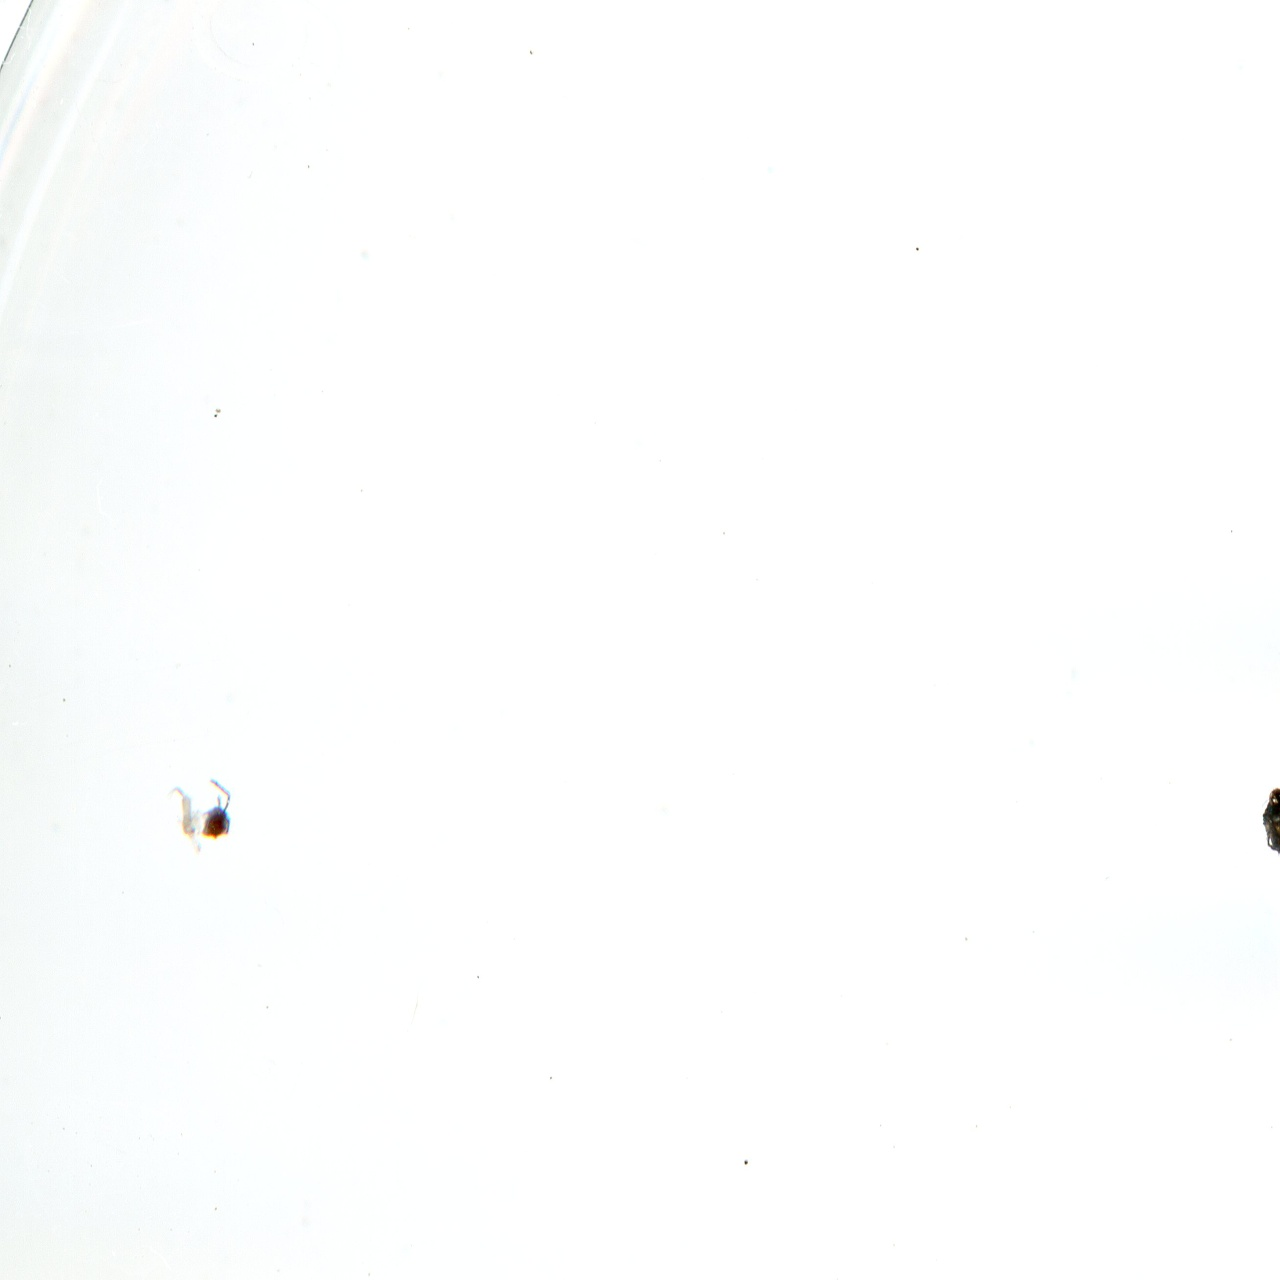arthropod: (166, 770, 237, 844)
